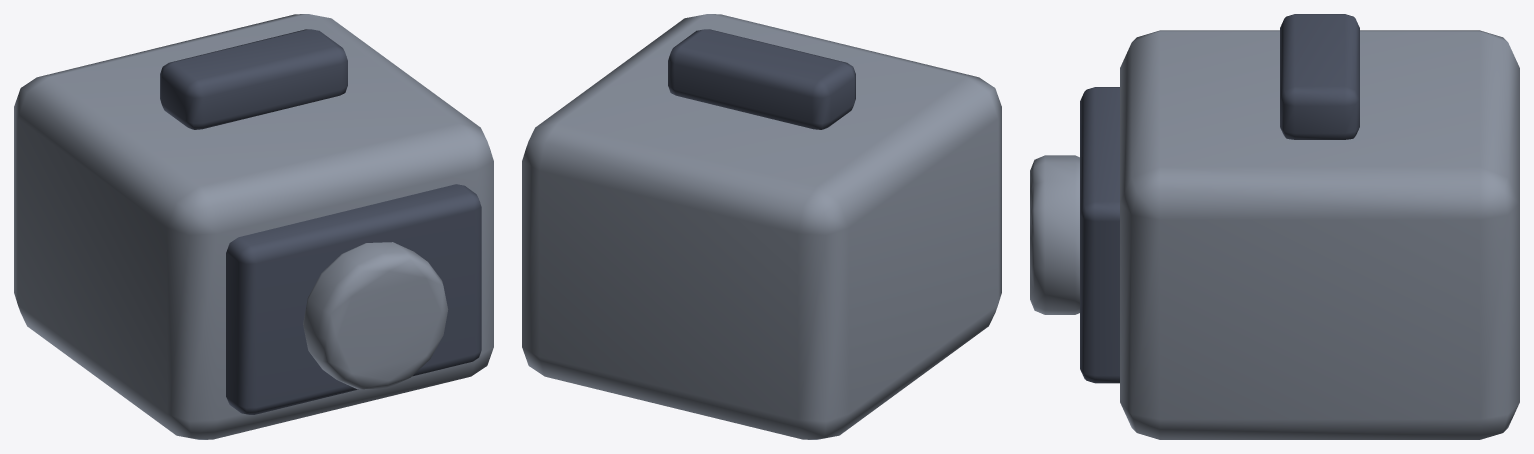
Rendered from Fx_Co2Filter_Used.fbx.
3 views of the same model, side by side, from view 1: azimuth 30°, elevation 25°; view 2: azimuth 150°, elevation 25°; view 3: azimuth 270°, elevation 25° (orthographic). The views are drawn at different scales.
Visible parts, largest first — view 1: Fx_Co2Filter_Used.Body, Fx_Co2Filter_Used.Grille, Fx_Co2Filter_Used.Port, Fx_Co2Filter_Used.Handle; view 2: Fx_Co2Filter_Used.Body, Fx_Co2Filter_Used.Handle; view 3: Fx_Co2Filter_Used.Body, Fx_Co2Filter_Used.Grille, Fx_Co2Filter_Used.Handle, Fx_Co2Filter_Used.Port.
Boxes of the visible parts, bbox=[...] form: Fx_Co2Filter_Used.Body: bbox=[14, 14, 493, 439]; Fx_Co2Filter_Used.Grille: bbox=[226, 184, 481, 414]; Fx_Co2Filter_Used.Port: bbox=[303, 242, 448, 389]; Fx_Co2Filter_Used.Handle: bbox=[160, 29, 347, 129]; Fx_Co2Filter_Used.Body: bbox=[522, 14, 1001, 439]; Fx_Co2Filter_Used.Handle: bbox=[668, 29, 855, 129]; Fx_Co2Filter_Used.Body: bbox=[1120, 30, 1519, 439]; Fx_Co2Filter_Used.Grille: bbox=[1080, 87, 1119, 383]; Fx_Co2Filter_Used.Handle: bbox=[1280, 14, 1359, 139]; Fx_Co2Filter_Used.Port: bbox=[1030, 155, 1079, 314].
Size of the model in its own units: 0.2 by 0.177 by 0.245.
1 material, 1 textured.
